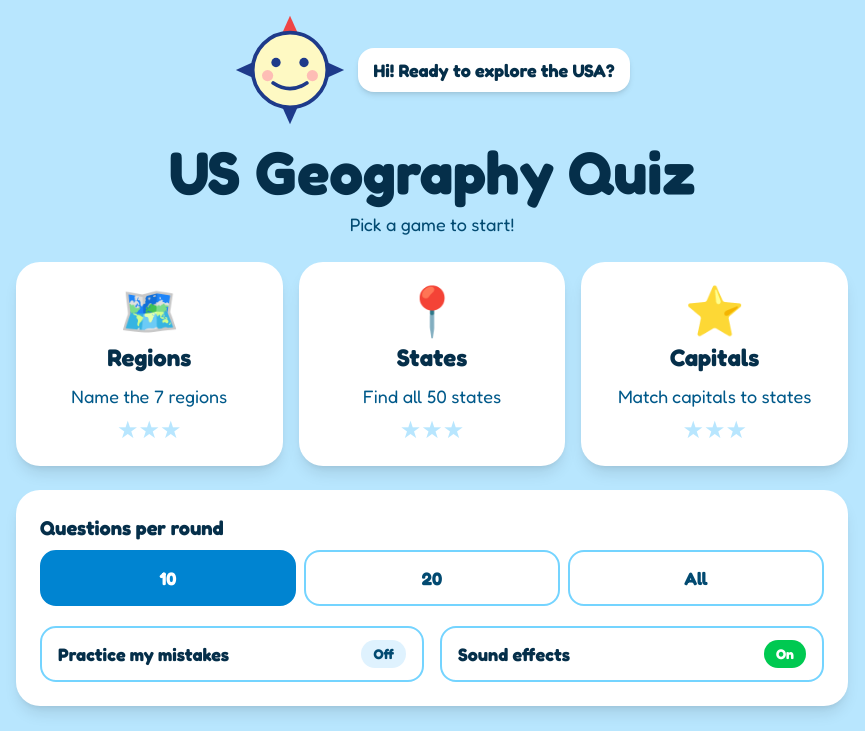
it: HomeScreen › updates the round length in the store
The image size is (865, 731).
Later steps or results of the test are not shown.
Click the button "20".
click(432, 578)  # box [304,550,560,606]
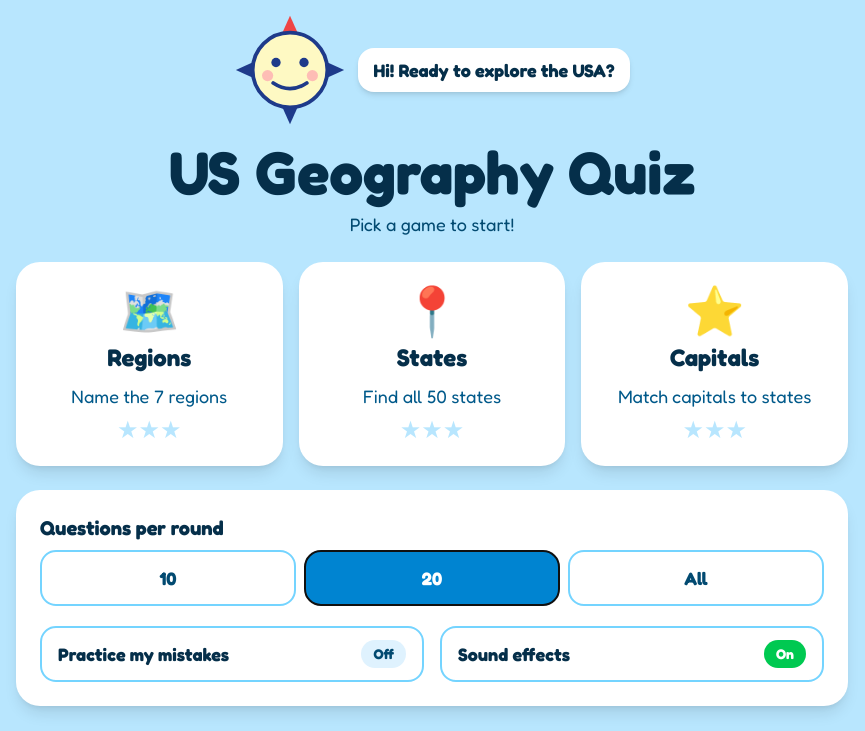
Now the button "20" is pressed, box [304,550,560,606]
